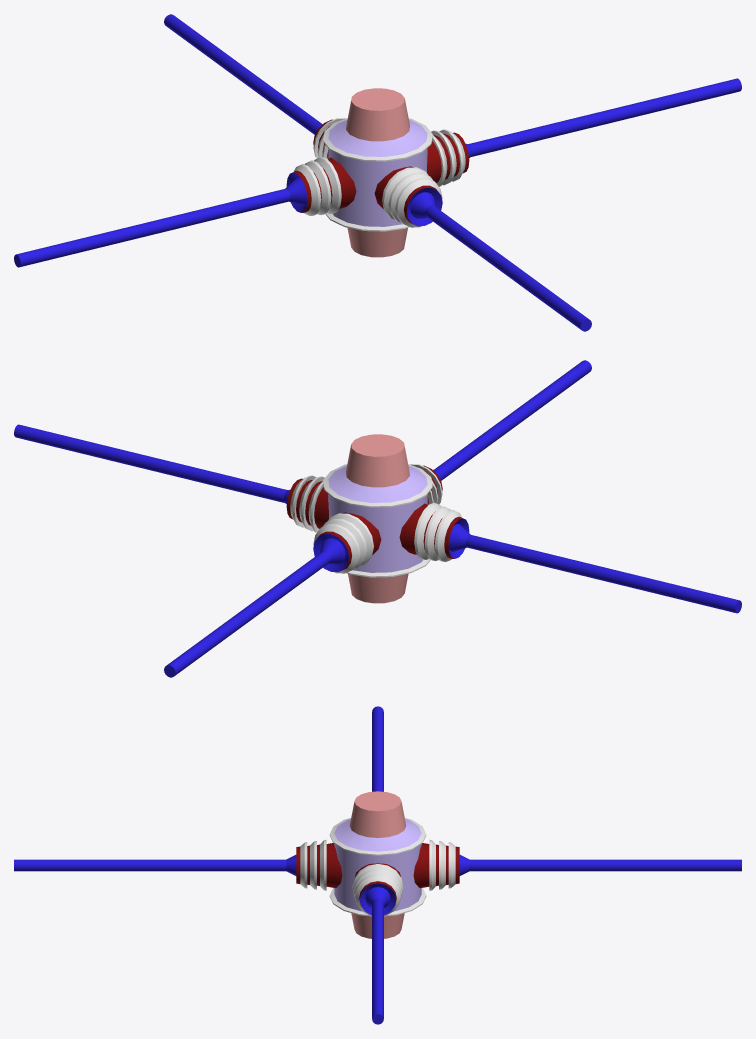
Rendered from Laser_Cross.fbx.
3 renders of one model, top to bottom at view 1: azimuth 30°, elevation 25°; view 2: azimuth 150°, elevation 25°; view 3: azimuth 270°, elevation 25°, orthographic. The views are drawn at different scales.
Visible parts, largest first — view 1: Laser_01.001, Laser_02.003, Laser_02.002, Laser_01.003, Laser_01.006, Laser_02.005, Laser_02.001, Laser_01.004; view 2: Laser_01.001, Laser_02.003, Laser_02.002, Laser_01.003, Laser_01.002, Laser_02.001, Laser_02.005, Laser_01.004; view 3: Laser_01.001, Laser_02.005, Laser_02.001, Laser_01.002, Laser_01.006, Laser_01.004, Laser_02.002, Laser_02.003.
Boxes of the visible parts, bbox=[...] form: Laser_01.001: bbox=[323, 88, 432, 257]; Laser_02.003: bbox=[14, 188, 290, 267]; Laser_02.002: bbox=[468, 78, 741, 156]; Laser_01.003: bbox=[285, 156, 356, 215]; Laser_01.006: bbox=[374, 166, 442, 227]; Laser_02.005: bbox=[424, 205, 591, 331]; Laser_02.001: bbox=[164, 14, 322, 134]; Laser_01.004: bbox=[427, 129, 472, 186]; Laser_01.001: bbox=[323, 434, 432, 603]; Laser_02.003: bbox=[465, 534, 741, 613]; Laser_02.002: bbox=[14, 424, 287, 502]; Laser_01.003: bbox=[399, 502, 470, 561]; Laser_01.002: bbox=[313, 512, 381, 573]; Laser_02.001: bbox=[164, 551, 331, 677]; Laser_02.005: bbox=[433, 360, 591, 480]; Laser_01.004: bbox=[284, 475, 328, 532]; Laser_01.001: bbox=[329, 791, 426, 938]; Laser_02.005: bbox=[14, 859, 286, 871]; Laser_02.001: bbox=[469, 859, 741, 871]; Laser_01.002: bbox=[413, 839, 469, 890]; Laser_01.006: bbox=[286, 839, 342, 890]; Laser_01.004: bbox=[352, 863, 403, 915]; Laser_02.002: bbox=[372, 899, 383, 1024]; Laser_02.003: bbox=[372, 706, 383, 791].
Size of the model in its own units: 910 by 177 by 910.
